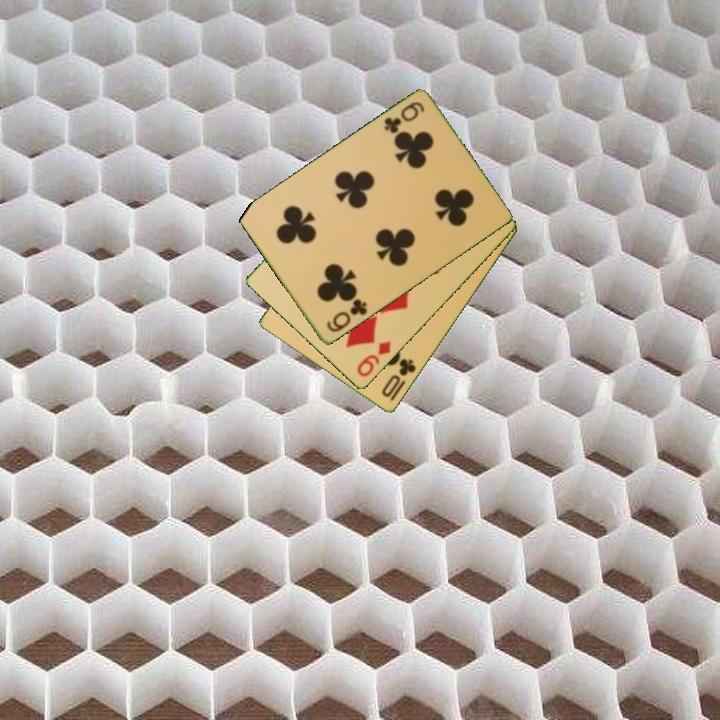10c: (378, 355, 419, 401)
6c: (323, 296, 370, 336), (380, 98, 427, 137)
9d: (353, 338, 394, 380)
